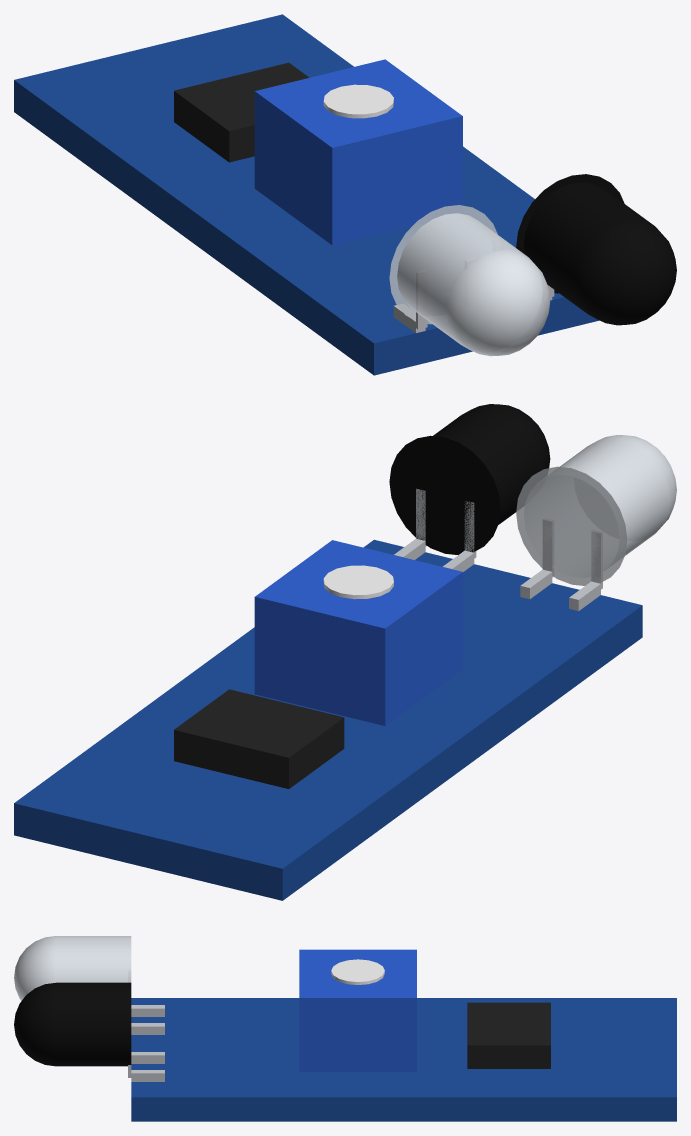
The model's file is gridie-fc51.glb.
The picture shows the model from 3 angles, top to bottom: view 1: azimuth 30°, elevation 25°; view 2: azimuth 150°, elevation 25°; view 3: azimuth 270°, elevation 25°; orthographic projection. The views are drawn at different scales.
Bounding box in the file's own units: 0.014 × 0.00756 × 0.0395.
